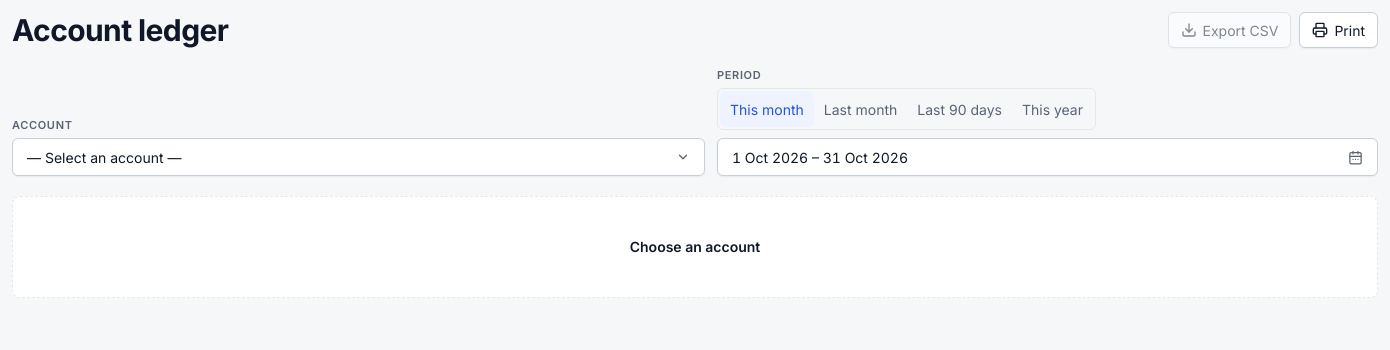
Scenario: AccountLedgerReport › reports a failure to load
This screenshot has width=1390, height=350.
What coordinates should you click on to do the following:
click the dropdown labelled "account"
I would click on:
 (104, 157)
Its box is x1=12 y1=138 x2=705 y2=176.
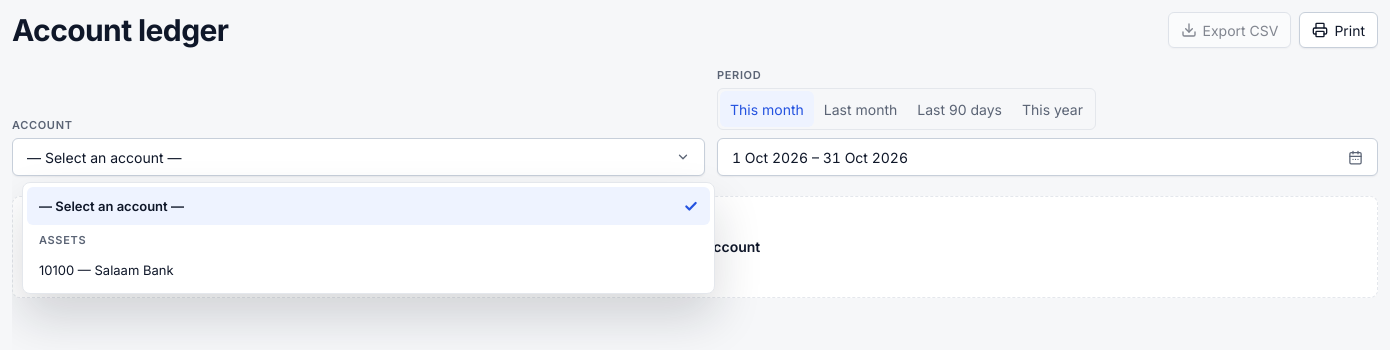
What coordinates should you click on to do the following:
click the option "10100 — Salaam Bank"
I would click on:
 (106, 270)
Its box is x1=39 y1=262 x2=174 y2=278.
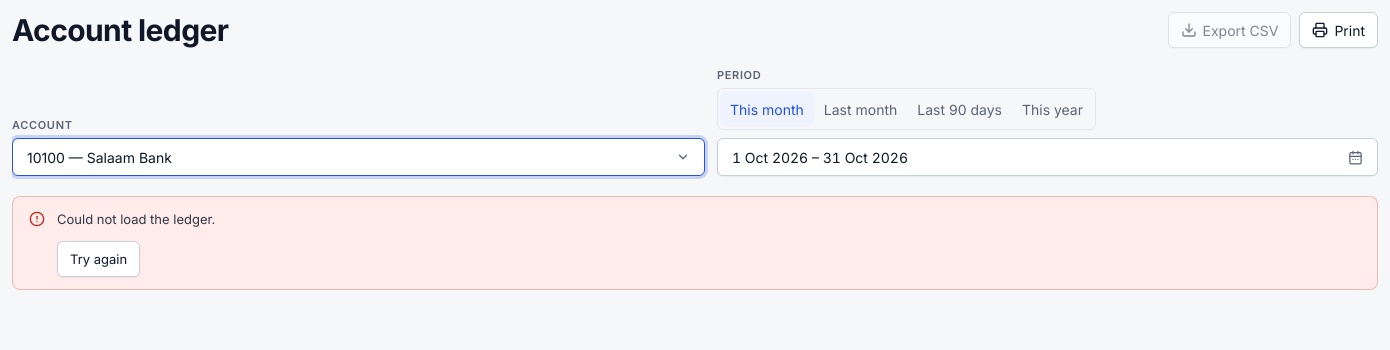
Expected: the text "Could not load the ledger." is shown, x1=57 y1=211 x2=215 y2=227
